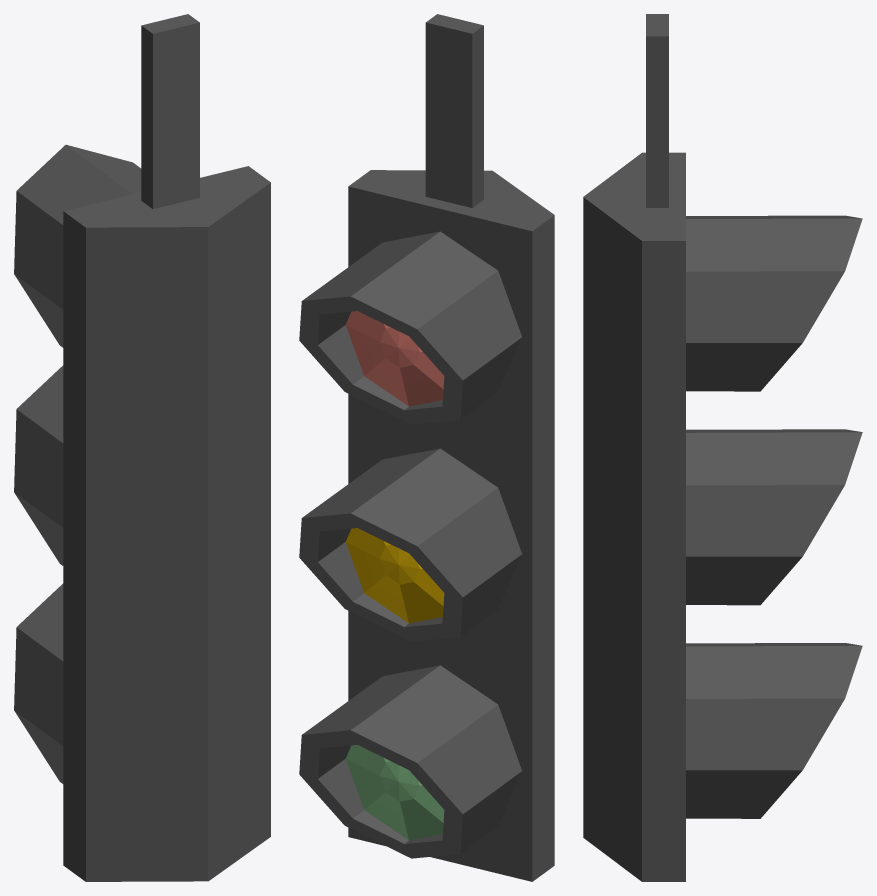
Rendered from 510edc2d-b808-4d74-a88d-613aeff3aa64.glb.
3 renders of one model, left to right at view 1: azimuth 30°, elevation 25°; view 2: azimuth 150°, elevation 25°; view 3: azimuth 270°, elevation 25°, orthographic. The views are drawn at different scales.
Parts seen in each view (by area): view 1: StopLight_Cube.036; view 2: StopLight_Cube.036; view 3: StopLight_Cube.036.
Boxes of the visible parts, x1,y1,x2,y2 form: StopLight_Cube.036: (14,14,270,881); StopLight_Cube.036: (299,14,554,881); StopLight_Cube.036: (583,14,862,881).
Size of the model in its own units: 2.5 by 10.7 by 3.34.
